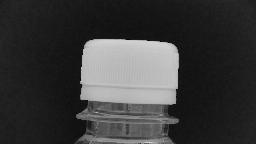Loose Cap: (76, 79, 180, 126)
